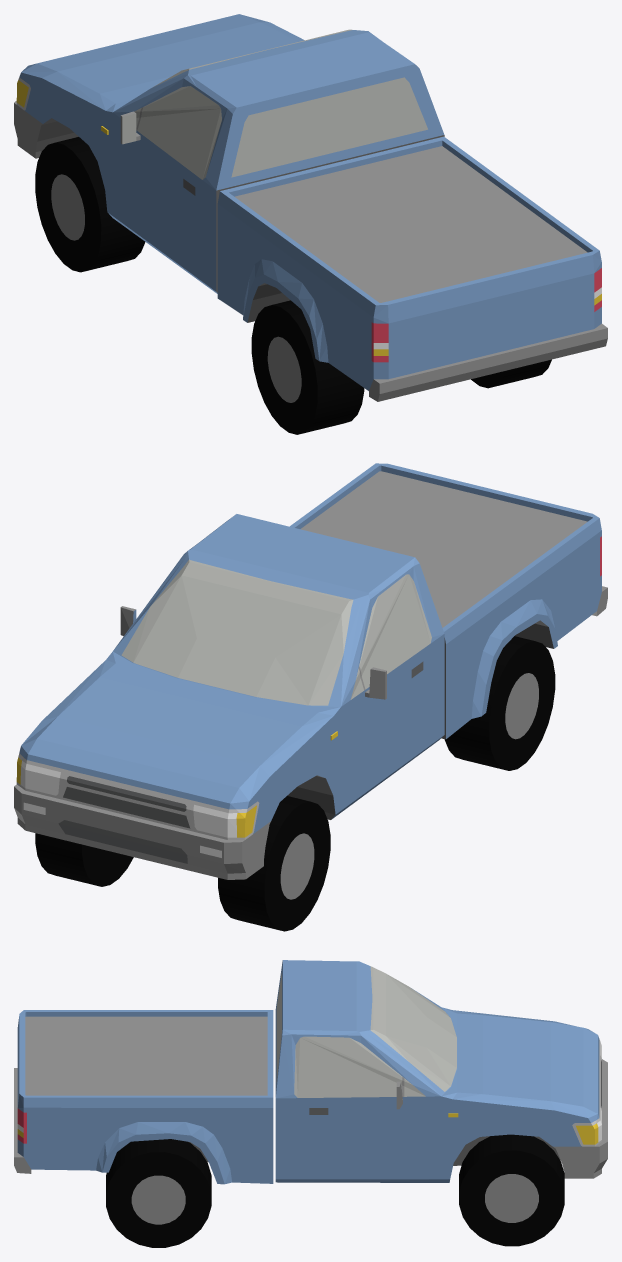
The picture shows the model from 3 angles, top to bottom: view 1: azimuth 30°, elevation 25°; view 2: azimuth 150°, elevation 25°; view 3: azimuth 270°, elevation 25°; orthographic projection. The views are drawn at different scales.
Visible parts, largest first — view 1: Mesh1 Model, Mesh5 Model, Mesh4 Model, Mesh2 Model; view 2: Mesh1 Model, Mesh4 Model, Mesh5 Model, Mesh3 Model; view 3: Mesh1 Model, Mesh3 Model, Mesh2 Model.
Part boxes in pixels (box(x1,y1,x2,y2)): Mesh1 Model: box(14, 14, 607, 401); Mesh5 Model: box(251, 300, 364, 434); Mesh4 Model: box(35, 137, 145, 272); Mesh2 Model: box(471, 359, 551, 388); Mesh1 Model: box(14, 463, 607, 879); Mesh4 Model: box(218, 796, 330, 931); Mesh5 Model: box(444, 636, 555, 770); Mesh3 Model: box(35, 833, 133, 886); Mesh1 Model: box(14, 960, 607, 1184); Mesh3 Model: box(459, 1134, 564, 1246); Mesh2 Model: box(106, 1139, 211, 1247).
Bounding box in the file's own units: 134 × 125 × 326.
